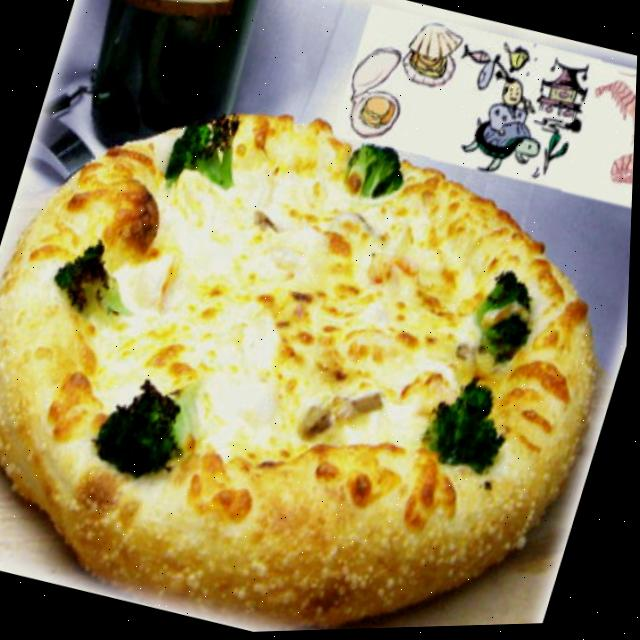汉堡快餐: (0, 56, 638, 640)
